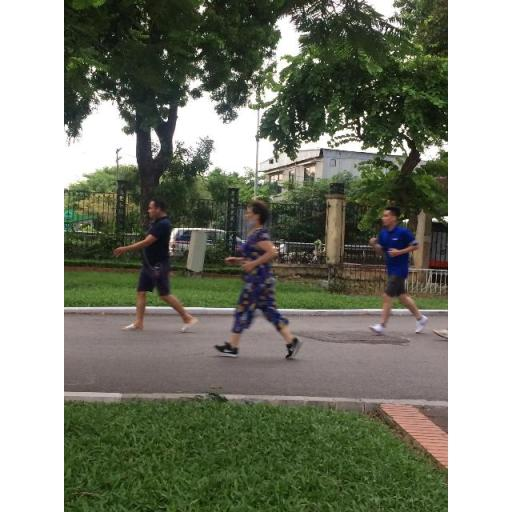Running: (212, 195, 310, 365), (106, 193, 199, 332), (364, 202, 431, 336)
